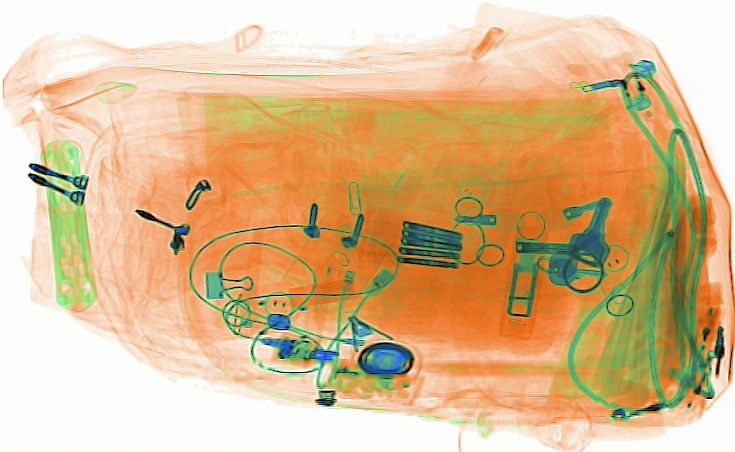lighter: (682, 281, 725, 374), (600, 48, 652, 113), (627, 56, 674, 123)
